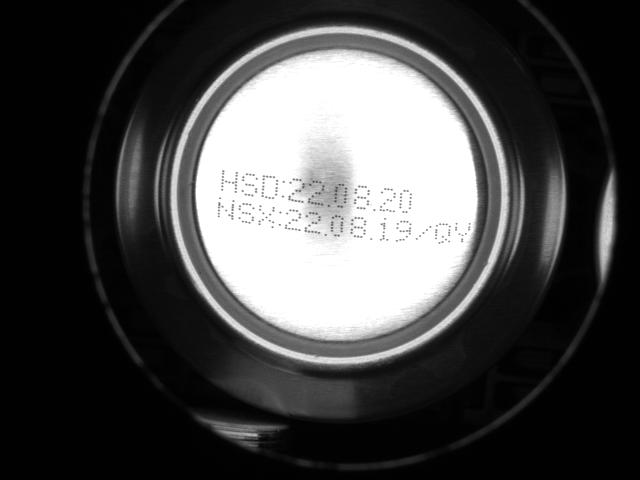.: (325, 195, 333, 208), (322, 224, 330, 237), (369, 199, 377, 212), (367, 228, 375, 241)
/: (413, 223, 433, 244)
0: (333, 181, 348, 210), (329, 211, 344, 240), (397, 185, 412, 214)
1: (377, 215, 390, 242)
2: (287, 176, 305, 204), (306, 178, 324, 206), (284, 204, 302, 232), (303, 208, 321, 236), (378, 185, 396, 213)
8: (353, 181, 371, 212), (349, 211, 367, 242)
9: (394, 218, 413, 245)
:: (280, 178, 285, 199), (277, 206, 282, 227)
D: (259, 172, 279, 200)
H: (219, 167, 239, 196)
N: (216, 196, 235, 222)
Q: (433, 219, 452, 249)
S: (240, 171, 259, 199), (237, 199, 256, 227)
X: (257, 202, 276, 231)
Y: (454, 218, 472, 249)
